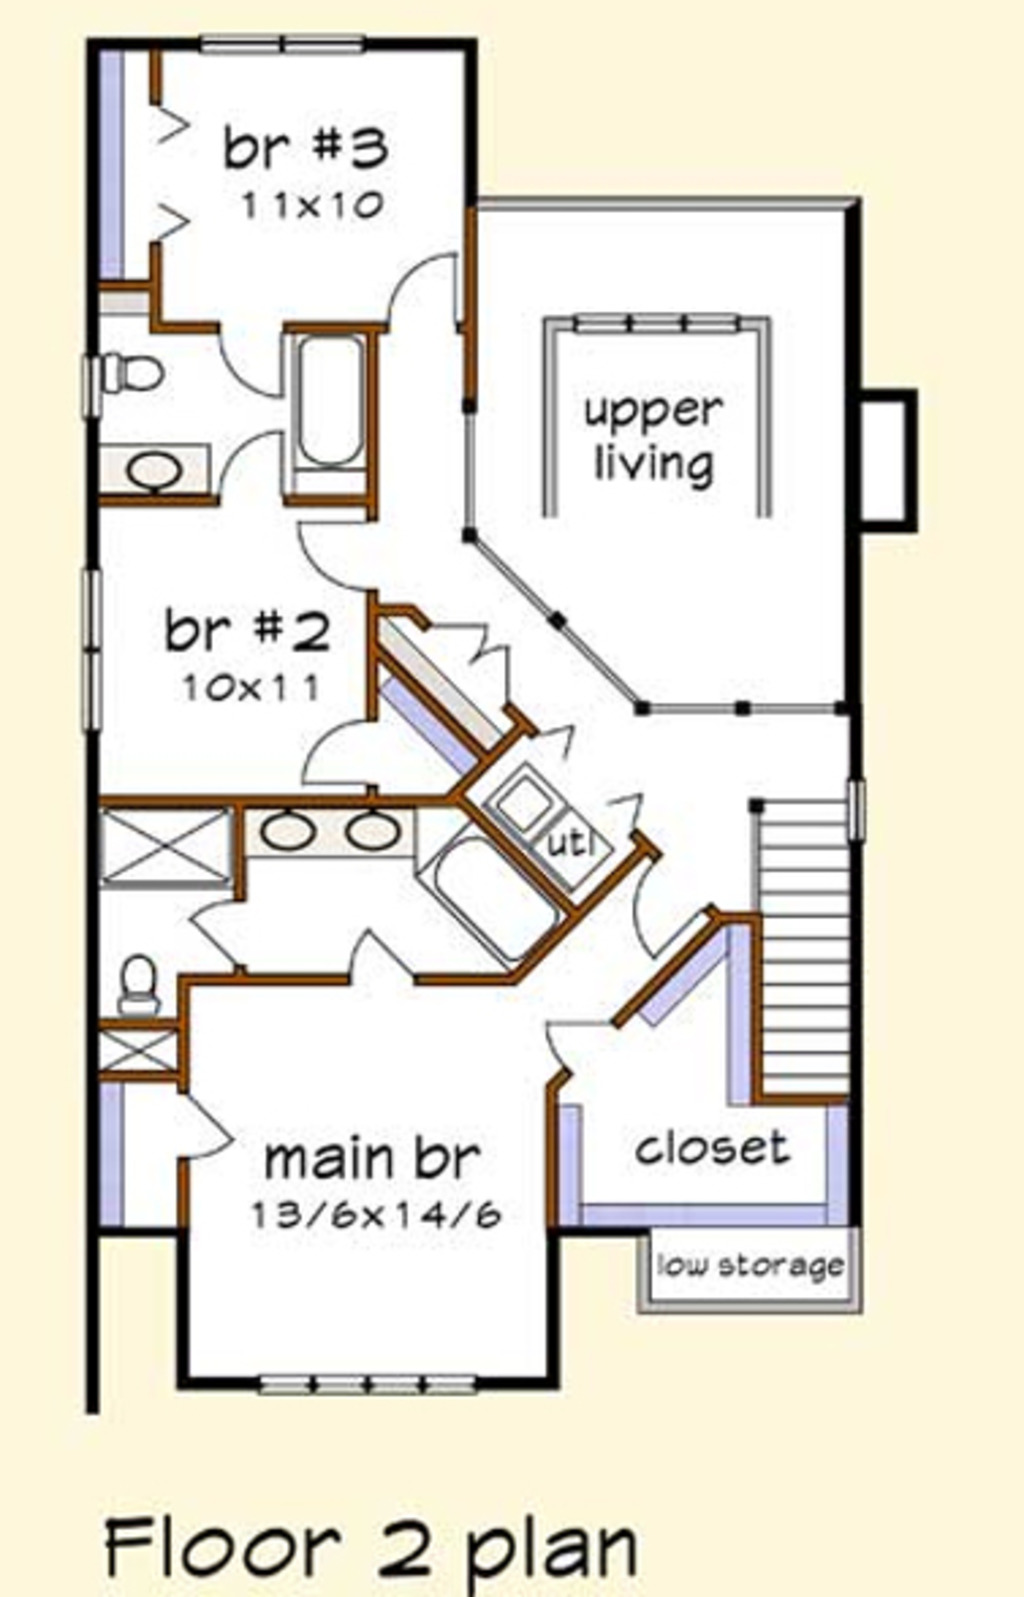door: (420, 599, 533, 704), (374, 237, 475, 347), (529, 989, 620, 1089), (628, 857, 710, 957), (280, 512, 385, 589), (200, 427, 289, 504), (289, 712, 374, 792), (163, 1089, 235, 1181), (180, 883, 259, 967), (218, 324, 293, 404), (335, 924, 424, 989)
large_sink: (85, 347, 198, 407), (95, 937, 178, 1017)
small_sink: (243, 809, 403, 857), (88, 436, 205, 494)
stairs: (753, 797, 863, 1099)
tub: (428, 832, 579, 974), (293, 327, 381, 469)
window: (67, 562, 145, 734), (263, 1369, 485, 1404), (200, 19, 370, 64), (560, 297, 730, 338), (823, 778, 888, 849)
